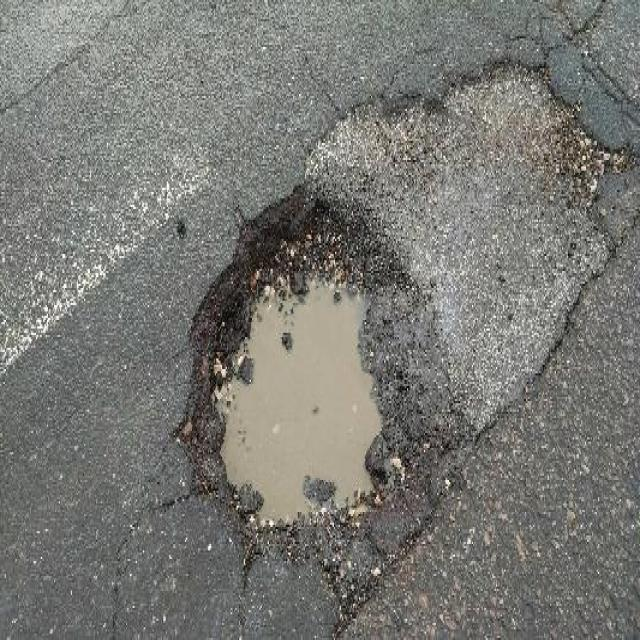pothole: (178, 174, 414, 564)
